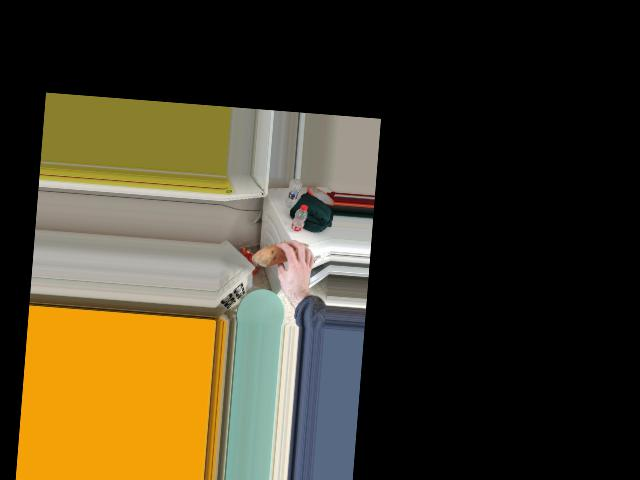sweet_potato: (253, 238, 312, 268)
